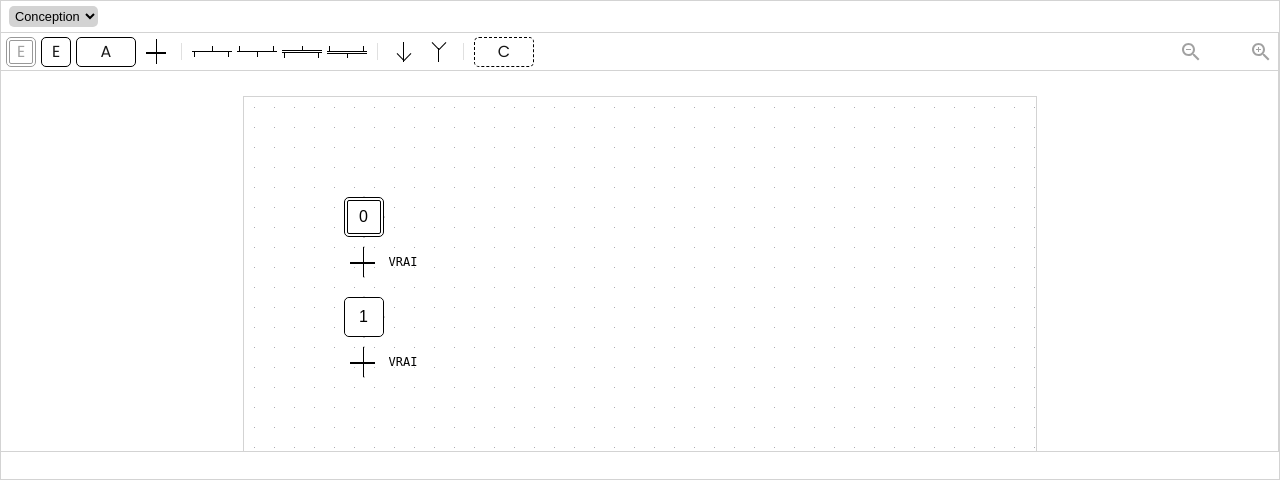
Scenario: EmbeddedApp › controls › only offers the watch tables during the simulation
The image size is (1280, 497).
Expected: the button "Tables de visualisation" is not shown
Step 1. Select "Simulation" in the dropdown → (54,16), box [9,6,98,27]
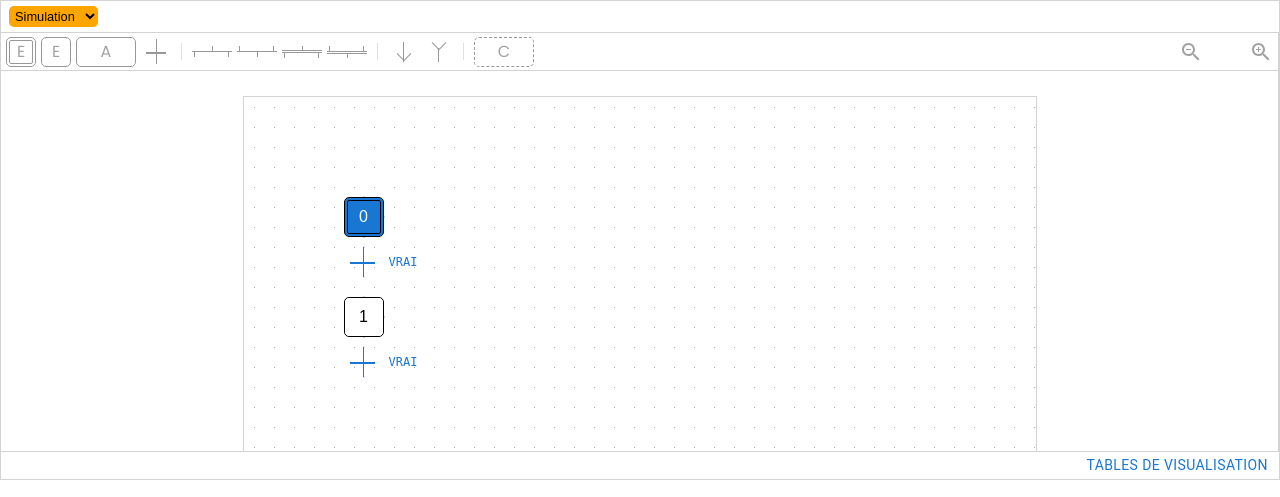
Now the button "Tables de visualisation" is shown, box [1083,452,1271,479]
